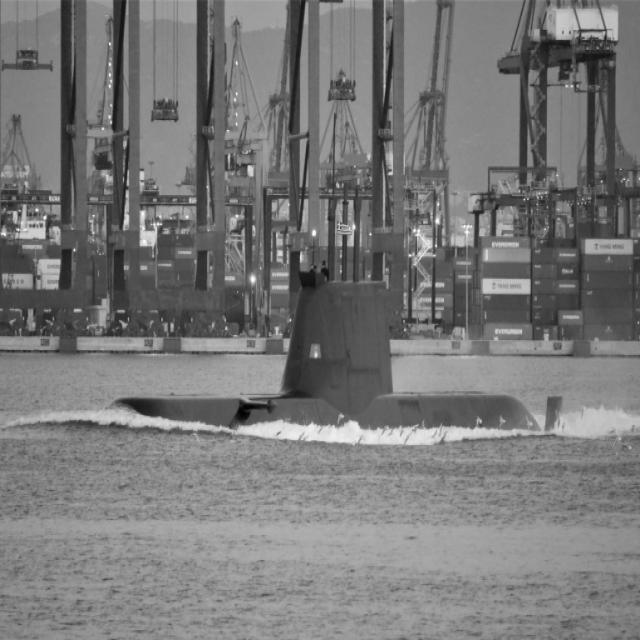submarine: (109, 266, 564, 437)
